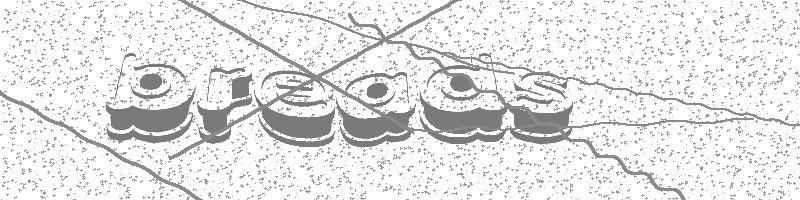a: (336, 72, 415, 150)
b: (106, 53, 194, 143)
d: (419, 53, 506, 145)
e: (253, 70, 337, 148)
r: (196, 66, 254, 146)
s: (504, 69, 576, 144)
